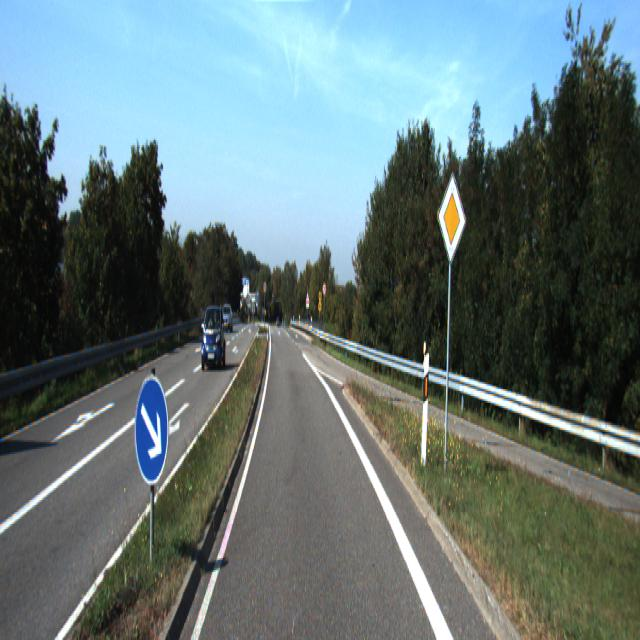Car: (200, 306, 226, 372), (220, 304, 234, 334)
